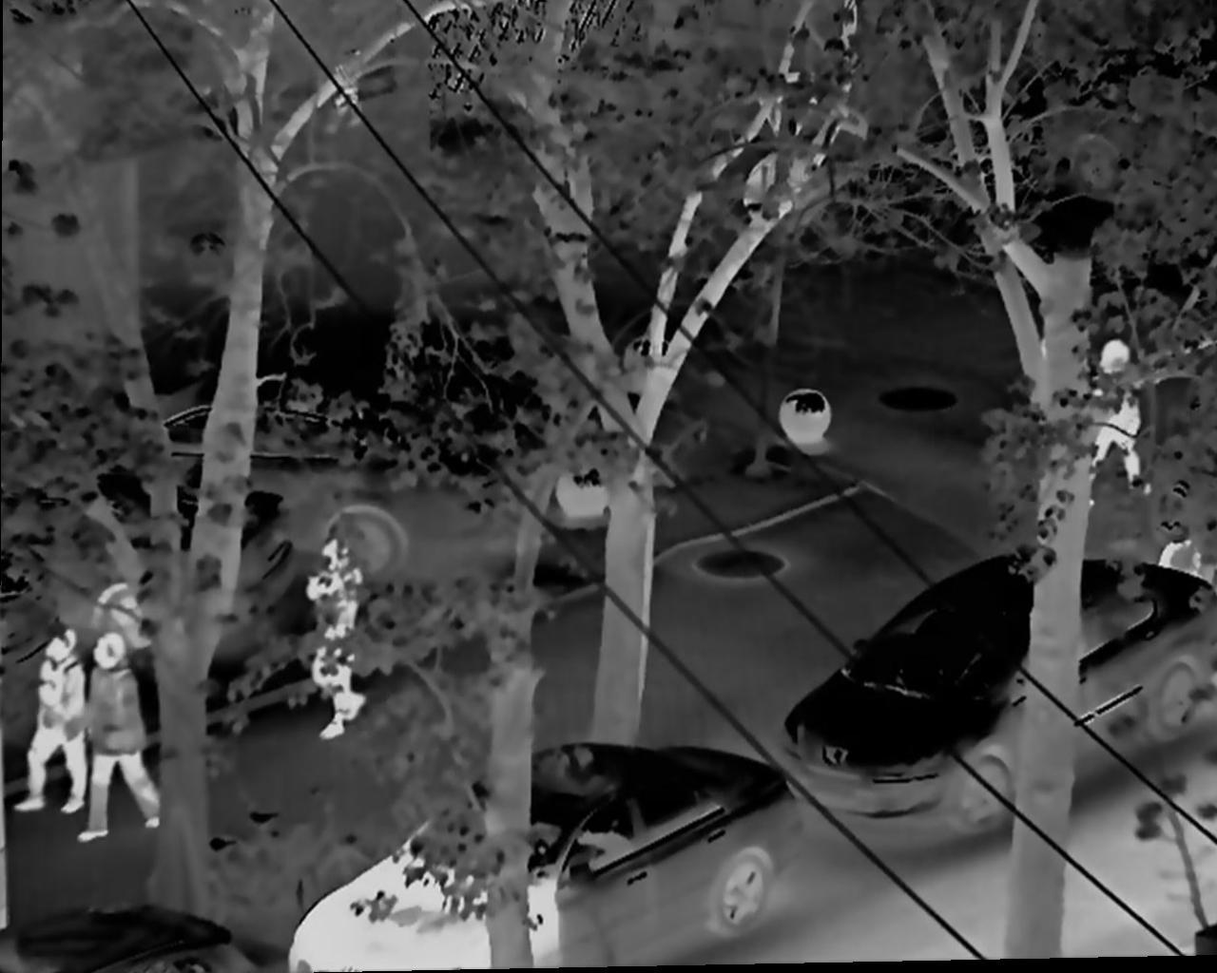person: (79, 639, 165, 844), (12, 625, 94, 831), (301, 535, 381, 743), (1081, 343, 1156, 514)
